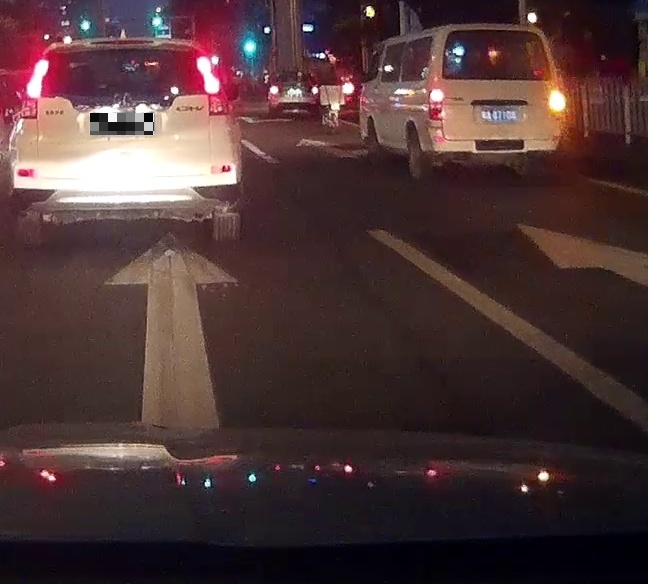L_light: (428, 89, 444, 121), (15, 98, 37, 119), (269, 86, 279, 95)
R_light: (209, 95, 233, 115), (549, 90, 564, 117), (309, 86, 319, 95)
T_light: (117, 49, 141, 59), (492, 30, 507, 35), (290, 72, 300, 76)
night-no: (9, 37, 241, 249), (427, 24, 565, 182), (268, 70, 320, 119)
plate_1: (90, 113, 154, 135)
